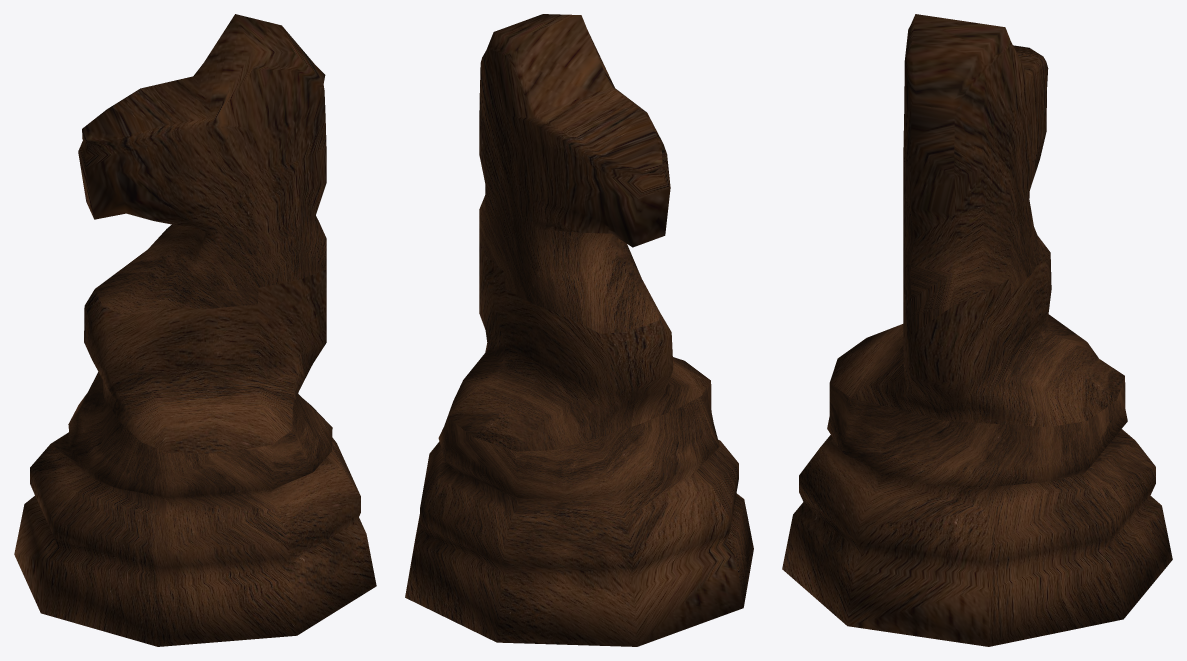
3 views of the same model, side by side, from view 1: azimuth 30°, elevation 25°; view 2: azimuth 150°, elevation 25°; view 3: azimuth 270°, elevation 25° (orthographic). The views are drawn at different scales.
Visible parts, largest first — view 1: BlackKnight; view 2: BlackKnight; view 3: BlackKnight.
Boxes of the visible parts, box(x1,y1,x2,y2) form: BlackKnight: box(14, 14, 376, 646); BlackKnight: box(405, 14, 753, 646); BlackKnight: box(782, 14, 1172, 646).
Size of the model in its own units: 0.0296 by 0.0472 by 0.0296.
1 material, 1 textured.
